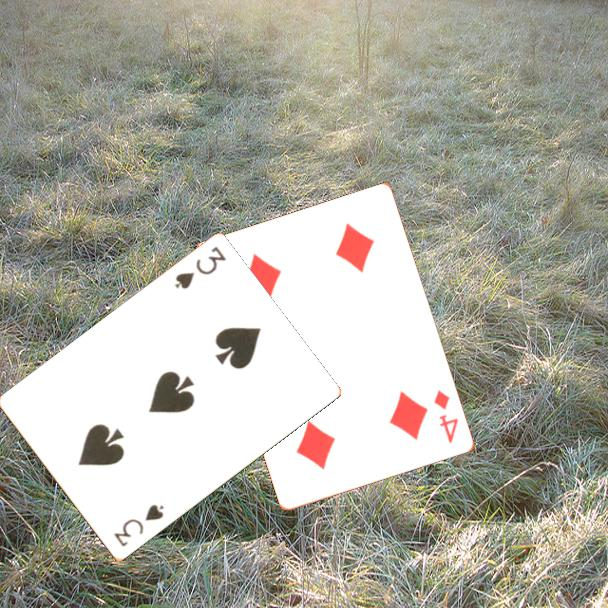d04: (431, 387, 462, 446)
s03: (171, 243, 229, 293), (110, 501, 167, 550)
